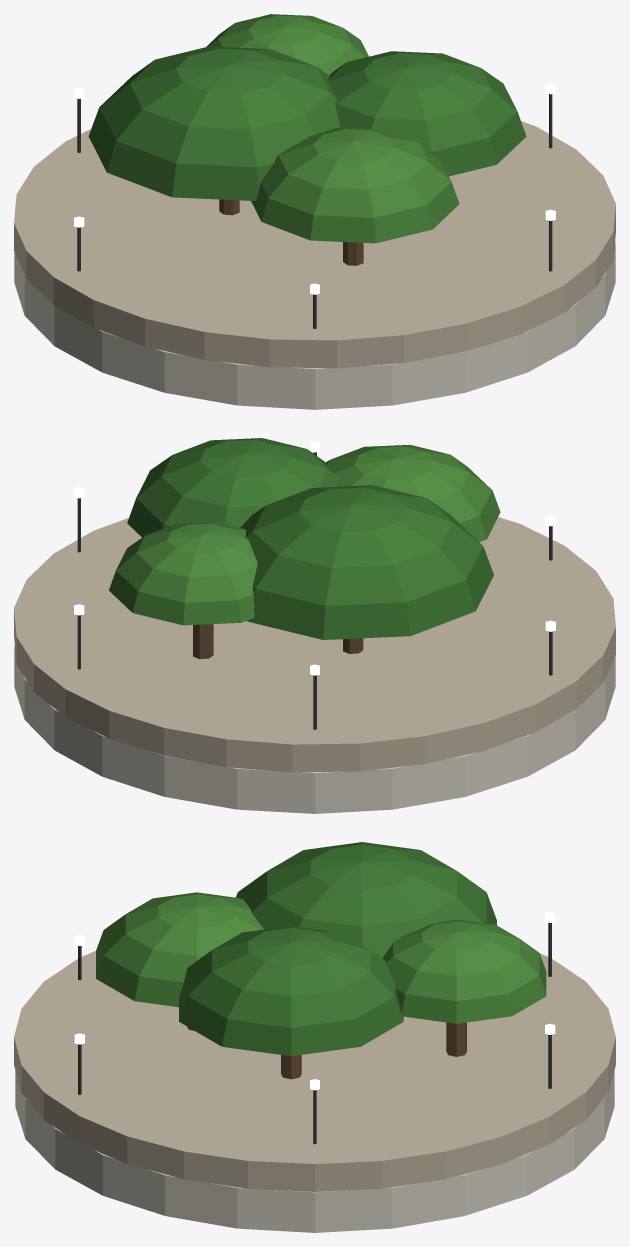
The model's file is rb_starburst.glb.
The picture shows the model from 3 angles, top to bottom: view 1: azimuth 30°, elevation 25°; view 2: azimuth 150°, elevation 25°; view 3: azimuth 270°, elevation 25°; orthographic projection.
Visible parts, largest first — view 1: rb_starburst_lod0; view 2: rb_starburst_lod0; view 3: rb_starburst_lod0.
Part boxes in pixels (x1,y1,x2,y2): rb_starburst_lod0: (14, 14, 615, 409); rb_starburst_lod0: (14, 438, 615, 813); rb_starburst_lod0: (14, 842, 615, 1232).
Size of what is drawn, in the model's own units: 25.5 by 10.03 by 25.5.
